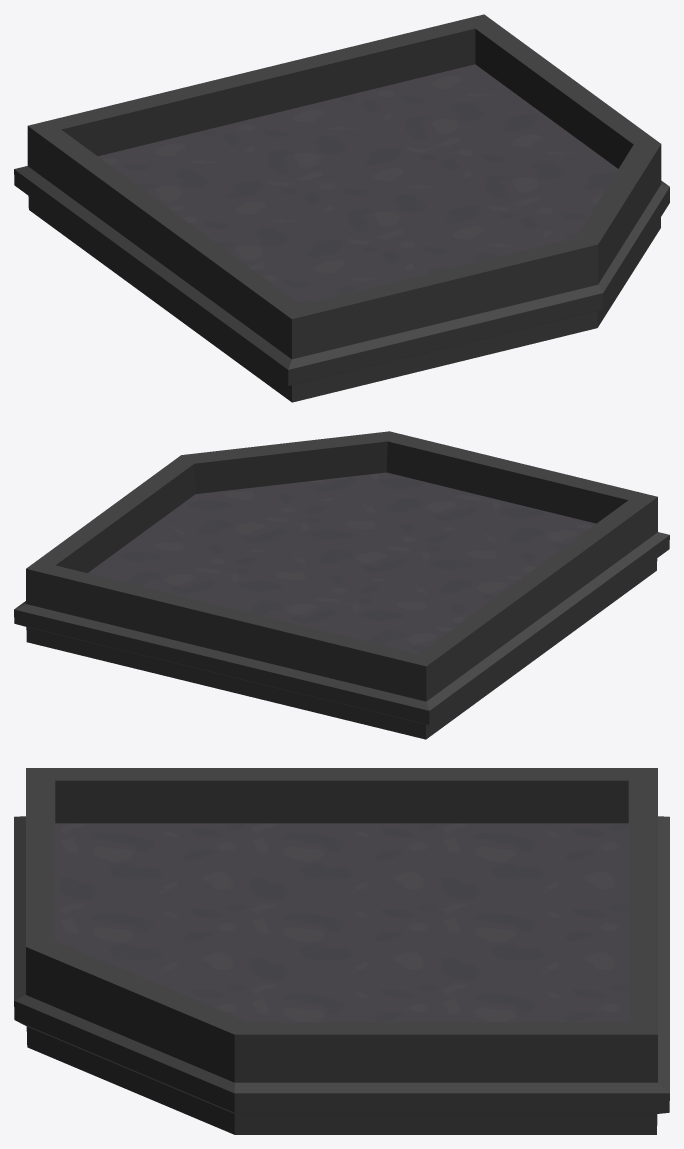
The model's file is RoofTop_D05.fbx.
3 renders of one model, top to bottom at view 1: azimuth 30°, elevation 25°; view 2: azimuth 150°, elevation 25°; view 3: azimuth 270°, elevation 25°, orthographic. The views are drawn at different scales.
Visible parts, largest first — view 1: RoofTop_D05; view 2: RoofTop_D05; view 3: RoofTop_D05.
Part boxes in pixels (x1,y1,x2,y2): RoofTop_D05: (14, 14, 669, 402); RoofTop_D05: (14, 431, 669, 739); RoofTop_D05: (14, 768, 669, 1134).
Bounding box in the file's own units: 638 × 108 × 639.
